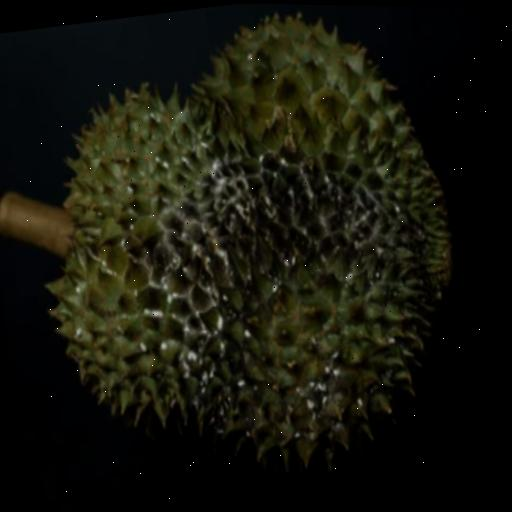mold: (159, 158, 411, 419)
